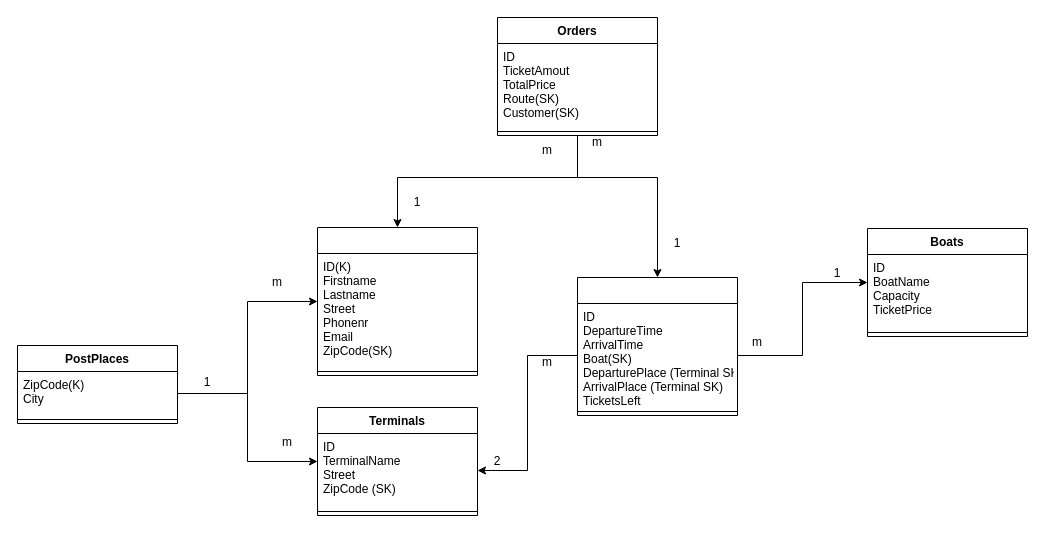
This 1045x533 diagram has some shape labels left out. Each missing label, with the box of its shape:
Customers: (316, 226, 478, 376)
Routes: (576, 276, 738, 416)
